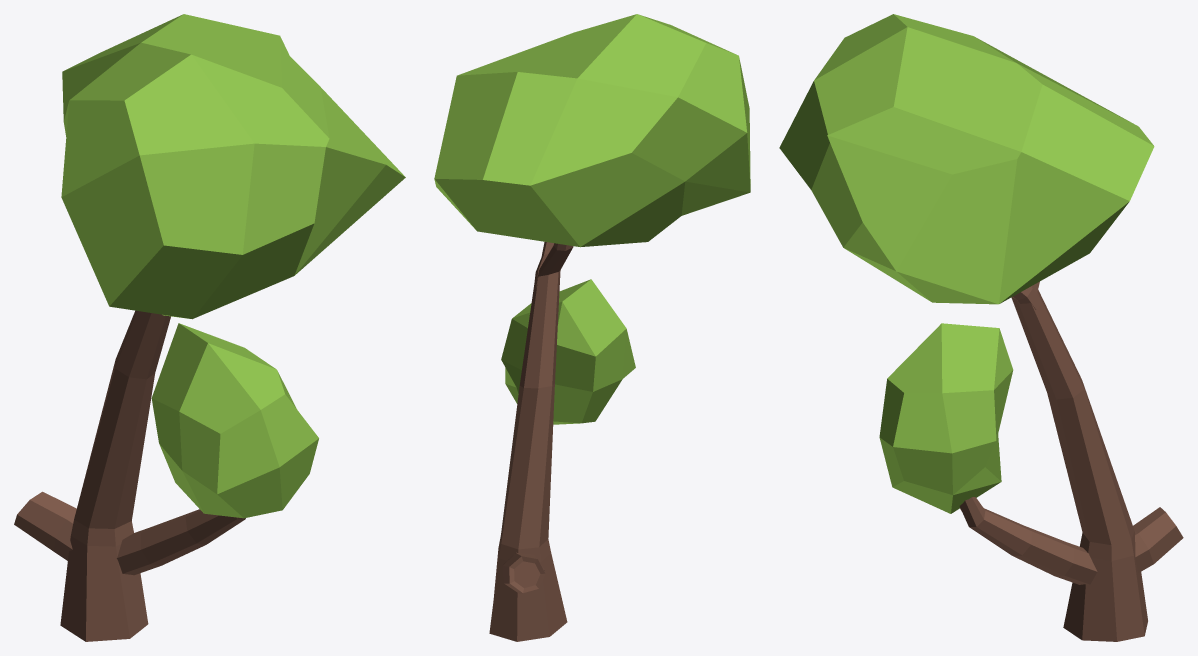
The model's file is low_poly_tree_2.glb.
3 renders of one model, left to right at view 1: azimuth 30°, elevation 25°; view 2: azimuth 150°, elevation 25°; view 3: azimuth 270°, elevation 25°, orthographic. The views are drawn at different scales.
Visible parts, largest first — view 1: group378925630, group490856608, group280429710, group1058431921, group936933673; view 2: group378925630, group280429710, group490856608, group936933673; view 3: group378925630, group490856608, group280429710, group1058431921, group936933673.
Boxes of the visible parts, x1,y1,x2,y2 form: group378925630: (61,14,405,319); group490856608: (151,323,318,518); group280429710: (60,310,170,641); group1058431921: (116,509,245,575); group936933673: (14,491,76,560); group378925630: (434,14,750,247); group280429710: (489,243,573,641); group490856608: (501,279,635,424); group936933673: (502,552,545,593); group378925630: (779,14,1154,304); group490856608: (879,323,1013,513); group280429710: (1011,281,1147,641); group1058431921: (959,497,1097,584); group936933673: (1133,507,1183,572).
Size of the model in its own units: 0.6527 by 1.2 by 0.7472.
